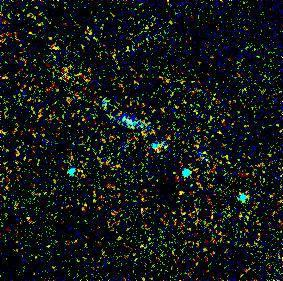star: (166, 177, 196, 207)
